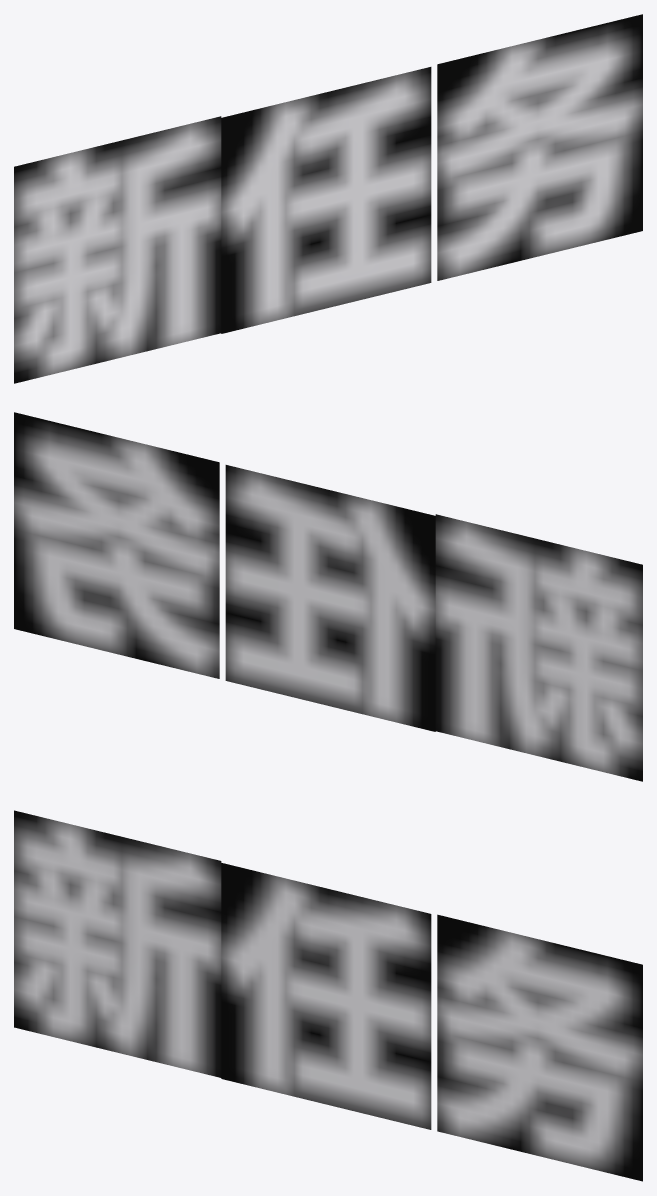
The model's file is AddMissionButton.prefab.glb.
3 views of the same model, one above another, from view 1: azimuth 30°, elevation 25°; view 2: azimuth 150°, elevation 25°; view 3: azimuth 330°, elevation 25° (orthographic).
Parts seen in each view (by area): view 1: Text; view 2: Text; view 3: Text.
Part boxes in pixels (x1,y1,x2,y2): Text: [14, 14, 642, 383]; Text: [14, 412, 642, 781]; Text: [14, 810, 642, 1181].
Size of what is drawn, in the model's own units: 77.75 by 25.74 by 0.
1 material, 1 textured.
